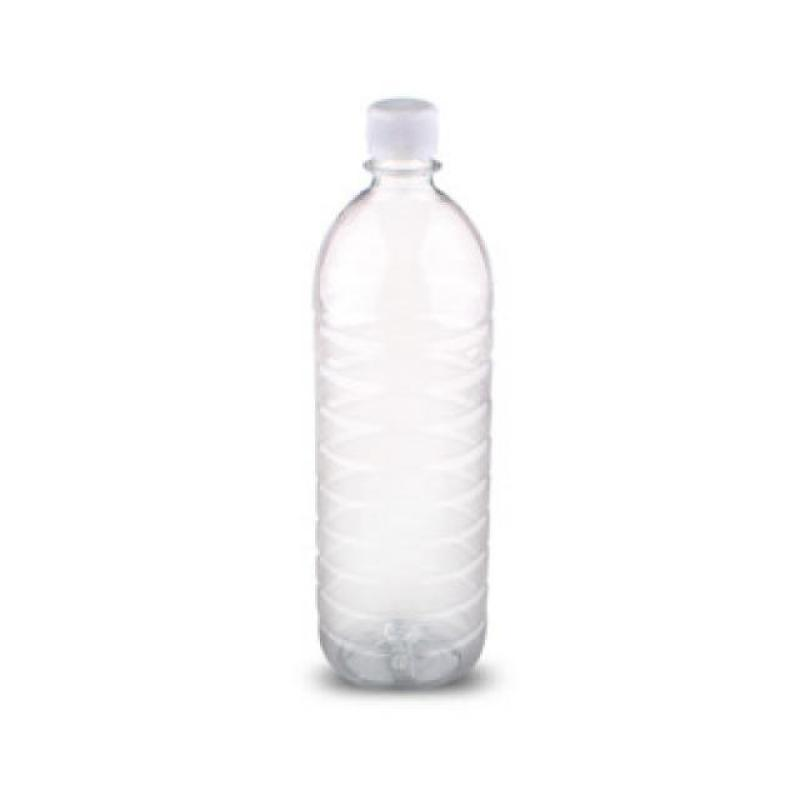botella: (309, 99, 490, 690)
